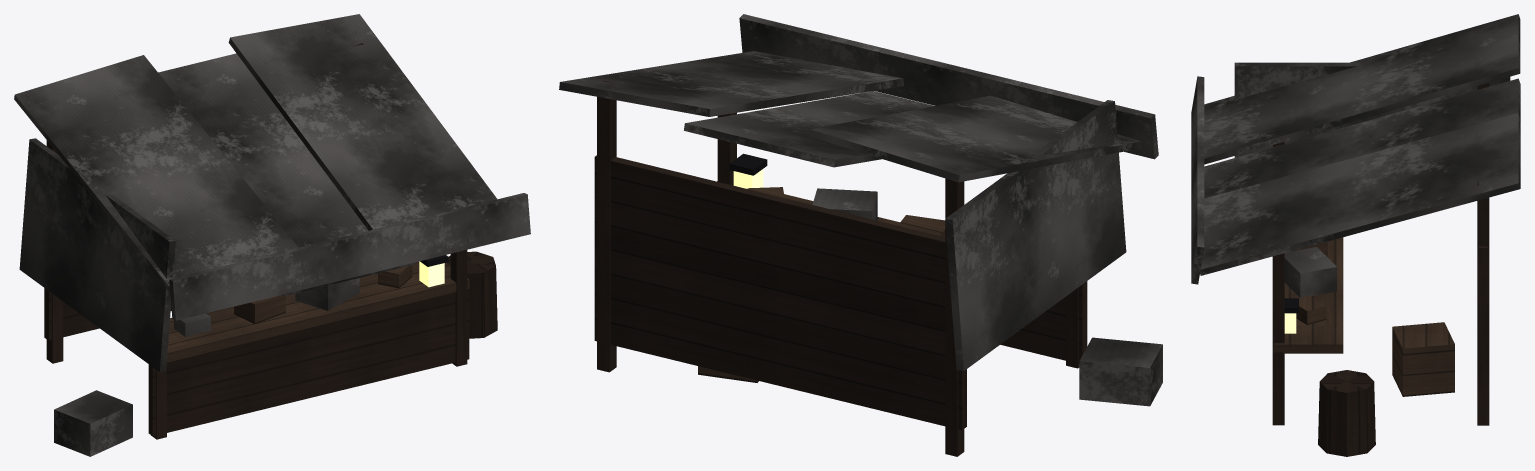
The model's file is PuestoLona.gltf.
3 renders of one model, left to right at view 1: azimuth 30°, elevation 25°; view 2: azimuth 150°, elevation 25°; view 3: azimuth 270°, elevation 25°, orthographic. The views are drawn at different scales.
Parts seen in each view (by area): view 1: PuestoLona; view 2: PuestoLona; view 3: PuestoLona.
Boxes of the visible parts, x1=… form: PuestoLona: x1=14, y1=14, x2=530, y2=456; PuestoLona: x1=559, y1=14, x2=1162, y2=456; PuestoLona: x1=1191, y1=14, x2=1520, y2=456.
Bounding box in the file's own units: 6.07 × 3.4 × 3.87.
5 materials, 3 textured.
